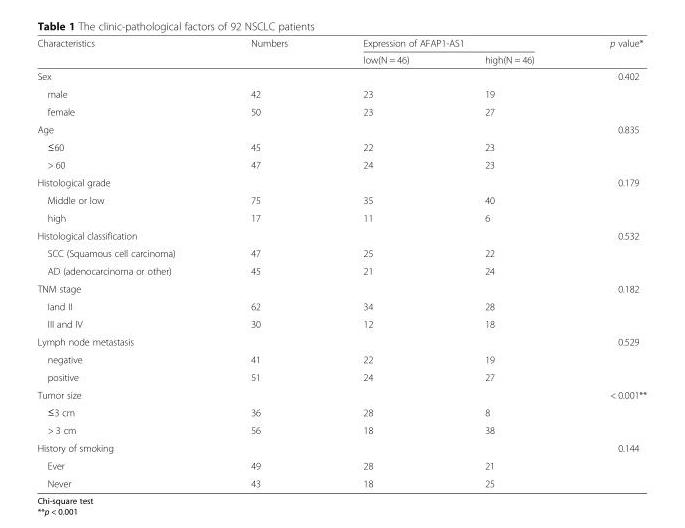table: (36, 37, 646, 488)
table column: (36, 37, 212, 488), (446, 37, 571, 488), (324, 37, 446, 488), (212, 37, 324, 488), (571, 37, 646, 488)
table column header: (36, 37, 646, 67)
table row: (36, 84, 646, 102), (36, 102, 646, 120), (36, 137, 646, 155), (36, 155, 646, 173), (36, 173, 646, 191), (36, 208, 646, 226), (36, 226, 646, 244), (36, 261, 646, 279), (36, 279, 646, 297), (36, 314, 646, 332), (36, 332, 646, 350), (36, 350, 646, 368), (36, 385, 646, 403), (36, 403, 646, 421), (36, 438, 646, 456), (36, 456, 646, 474), (36, 67, 646, 84), (36, 120, 646, 137), (36, 191, 646, 208), (36, 244, 646, 261), (36, 297, 646, 314), (36, 368, 646, 385), (36, 421, 646, 438), (36, 51, 646, 67), (36, 37, 646, 51), (36, 474, 646, 488)
table spanning cell: (36, 37, 212, 67), (324, 37, 571, 51), (212, 37, 324, 67), (571, 37, 646, 67)
